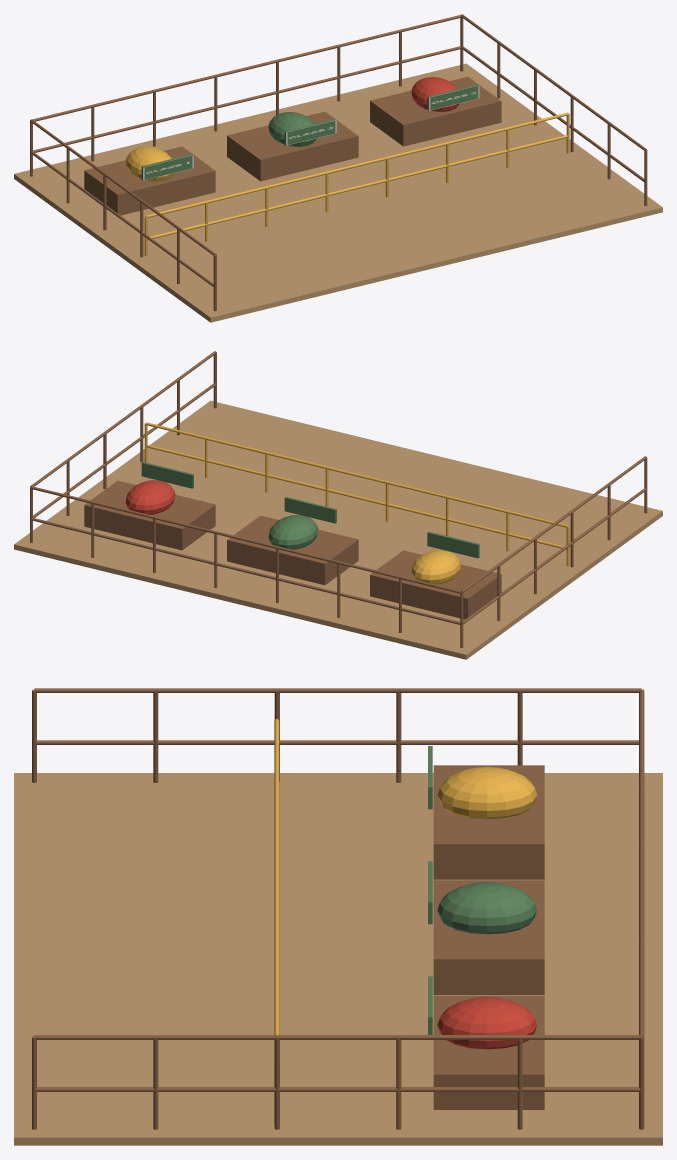
Rendered from scendance-plan-agricultural-competition.glb.
The picture shows the model from 3 angles, top to bottom: view 1: azimuth 30°, elevation 25°; view 2: azimuth 150°, elevation 25°; view 3: azimuth 270°, elevation 25°; orthographic projection. The views are drawn at different scales.
Bounding box in the file's own units: 9.5 × 1.24 × 7.15.
8 materials, 3 textured.
